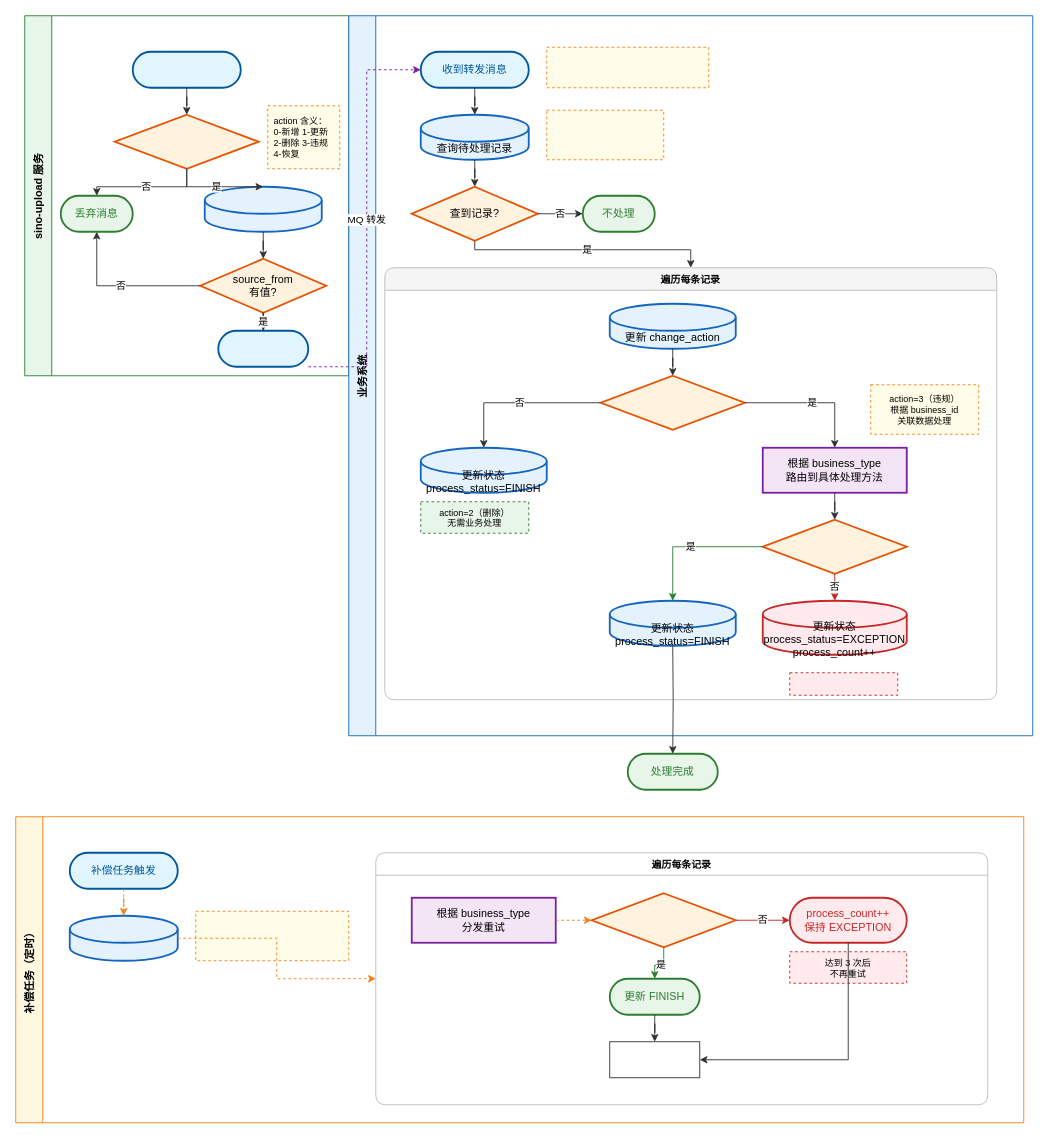
The diagram is 1049 pixels wide and 1139 high, and some of its shapes have lost their labels. Each missing label, with the centre of its shape:
action = 2 或 3?: pixel 186 141
change_action=3?: pixel 672 402
process_status=EXCEPTION process_count<3 change_action=3: pixel 272 935
storage_key=? process_status=READY process_count<3: pixel 605 134
下一条: pixel 654 1059
处理成功?: pixel 834 546
收到审核消息: pixel 186 69
查询 t_file_upload_meta: pixel 262 208
查询待补偿记录: pixel 123 937
等待补偿任务重试: pixel 843 683
补偿成功?: pixel 663 920
转发消息: pixel 263 348
队列：queue.sinoclick-ads-job .file-storage-change: pixel 627 67
